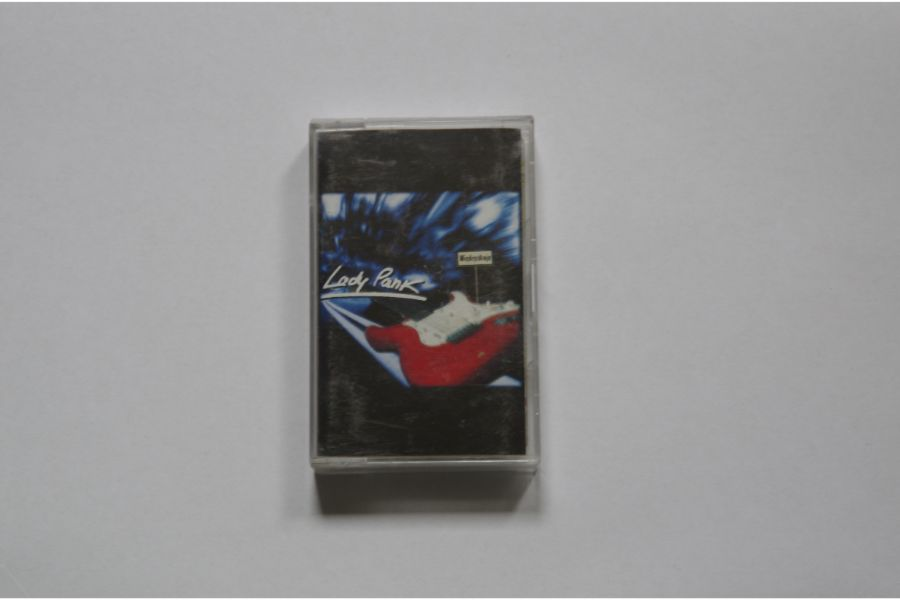album: (304, 115, 540, 480)
